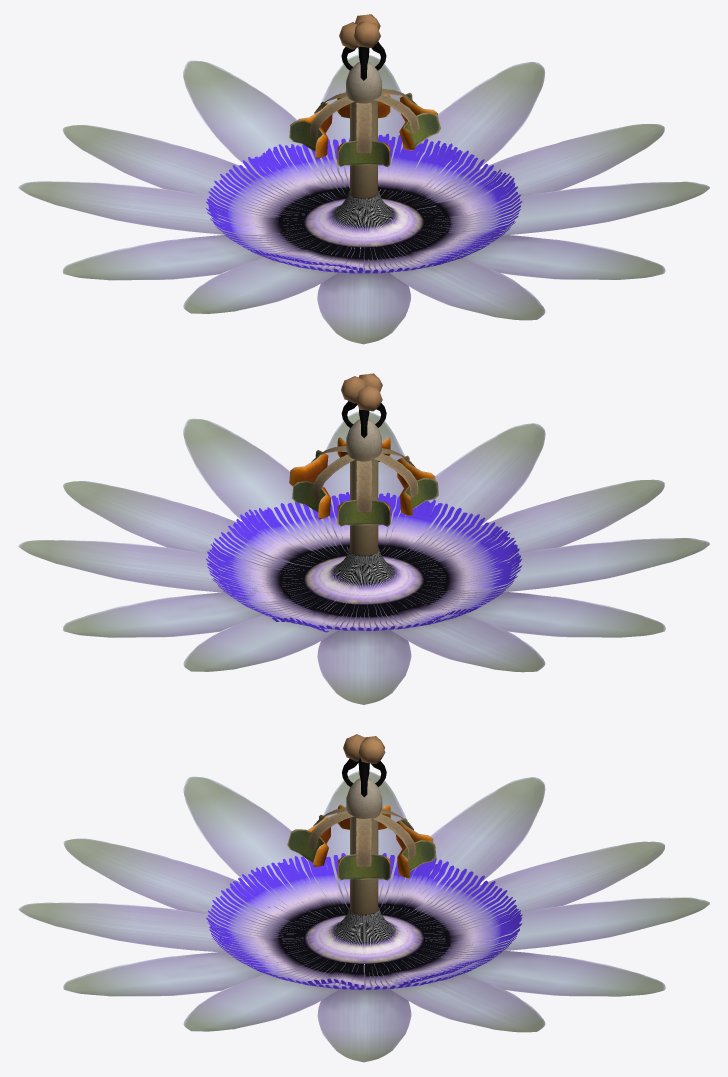
File: passion vine flower.fbx
3 renders of one model, top to bottom at view 1: azimuth 30°, elevation 25°; view 2: azimuth 150°, elevation 25°; view 3: azimuth 270°, elevation 25°, orthographic.
Parts seen in each view (by area): view 1: passion_vine_flower; view 2: passion_vine_flower; view 3: passion_vine_flower.
Part boxes in pixels (box(x1,y1,x2,y2)): passion_vine_flower: box(18, 14, 709, 344); passion_vine_flower: box(18, 373, 709, 704); passion_vine_flower: box(18, 734, 709, 1062).
Size of the model in its own units: 13.98 by 4.69 by 13.93.
1 material, 1 textured.
